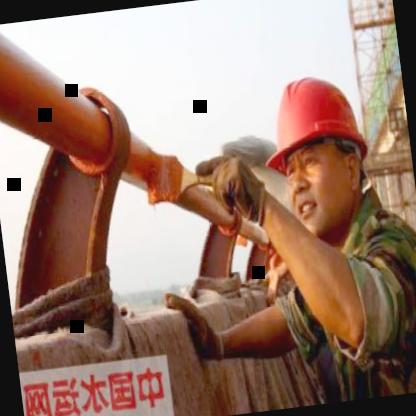helmet: (248, 48, 392, 256)
